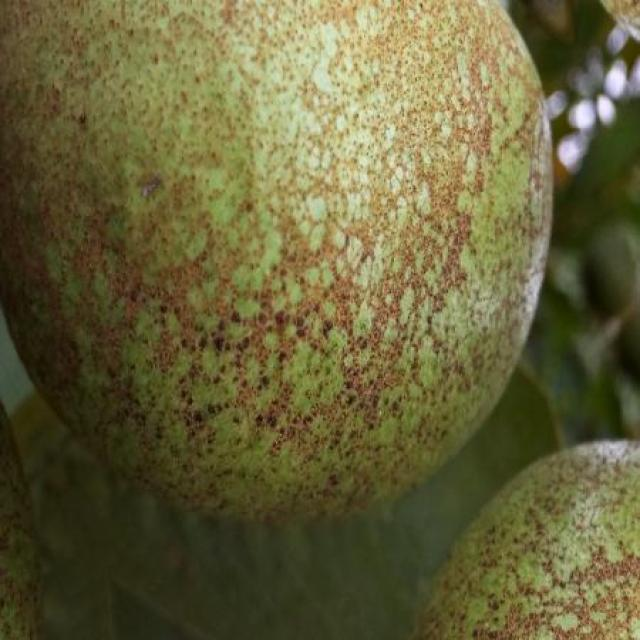Scab: (415, 441, 640, 639)
